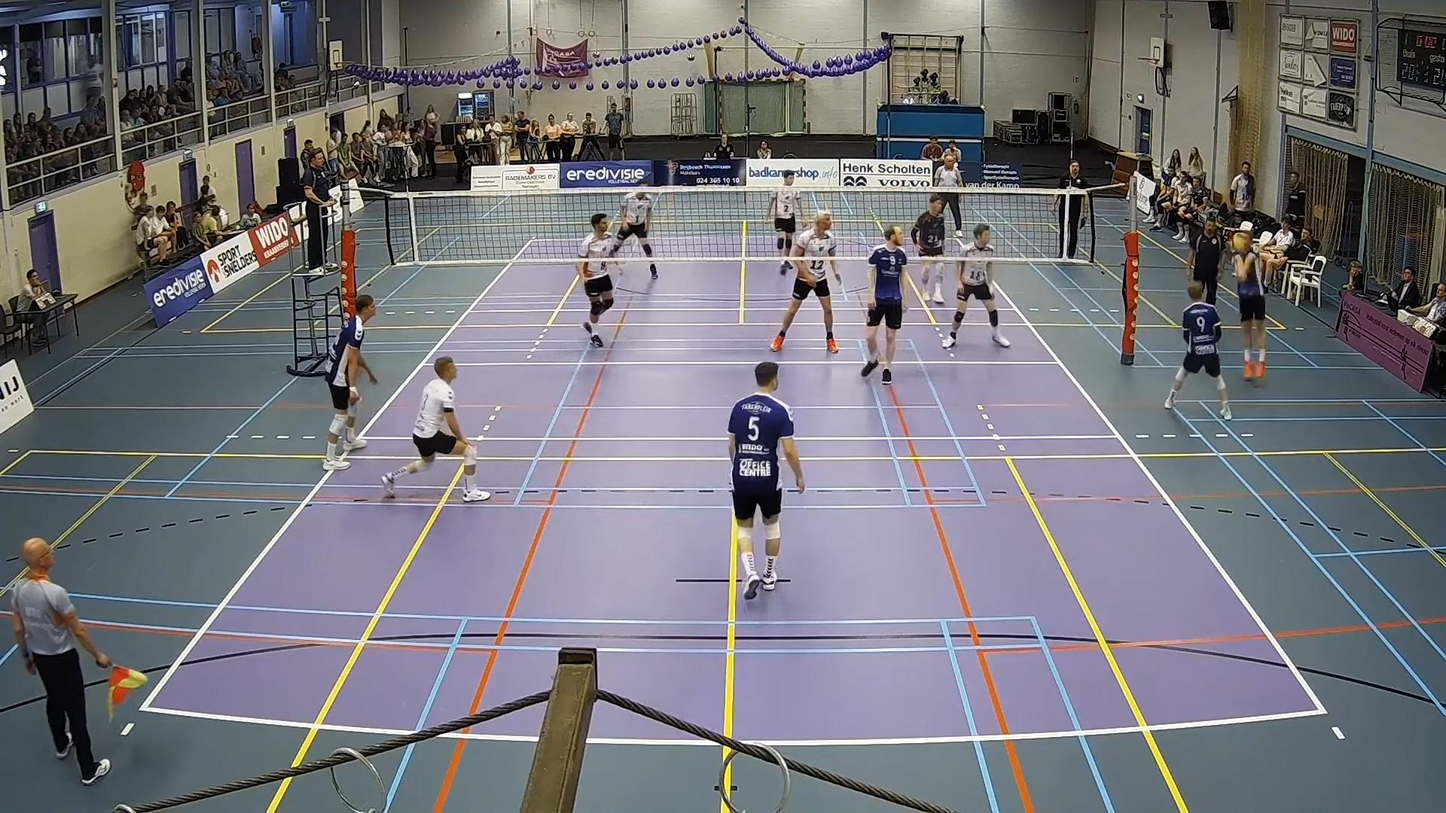Player: (728, 361, 804, 599), (381, 357, 490, 501), (770, 209, 840, 352), (323, 294, 376, 470), (1164, 281, 1231, 419), (942, 224, 1009, 349), (861, 225, 907, 384), (578, 213, 615, 347), (609, 188, 657, 277), (910, 193, 946, 303), (767, 170, 800, 274)
Set: (1226, 229, 1273, 393)
ball: (1233, 231, 1249, 250)
